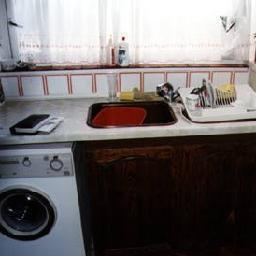Electrodomestico: (3, 142, 89, 252)
Lavaplatos: (84, 84, 180, 126)
